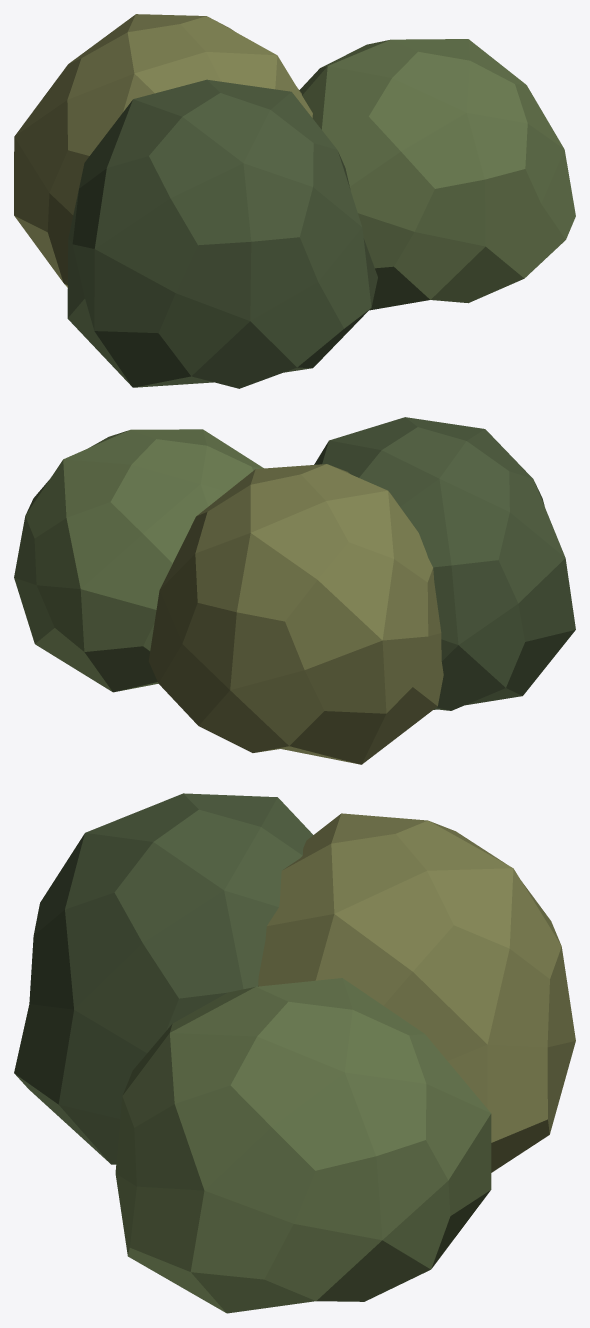
File: bush_cluster_1_v1.fbx
3 renders of one model, top to bottom at view 1: azimuth 30°, elevation 25°; view 2: azimuth 150°, elevation 25°; view 3: azimuth 270°, elevation 25°, orthographic. The views are drawn at different scales.
Parts seen in each view (by area): view 1: bush_2, bush_1, bush_3; view 2: bush_3, bush_2, bush_1; view 3: bush_1, bush_3, bush_2.
Part boxes in pixels (box(x1,y1,x2,y2)): bush_2: box(67, 79, 377, 388); bush_1: box(299, 39, 575, 310); bush_3: box(14, 14, 312, 287); bush_3: box(148, 464, 443, 764); bush_2: box(314, 417, 575, 710); bush_1: box(14, 429, 263, 692); bush_1: box(115, 978, 491, 1313); bush_3: box(258, 813, 575, 1172); bush_2: box(14, 793, 312, 1164).
Size of the model in its own units: 1.42 by 0.6919 by 1.1.
